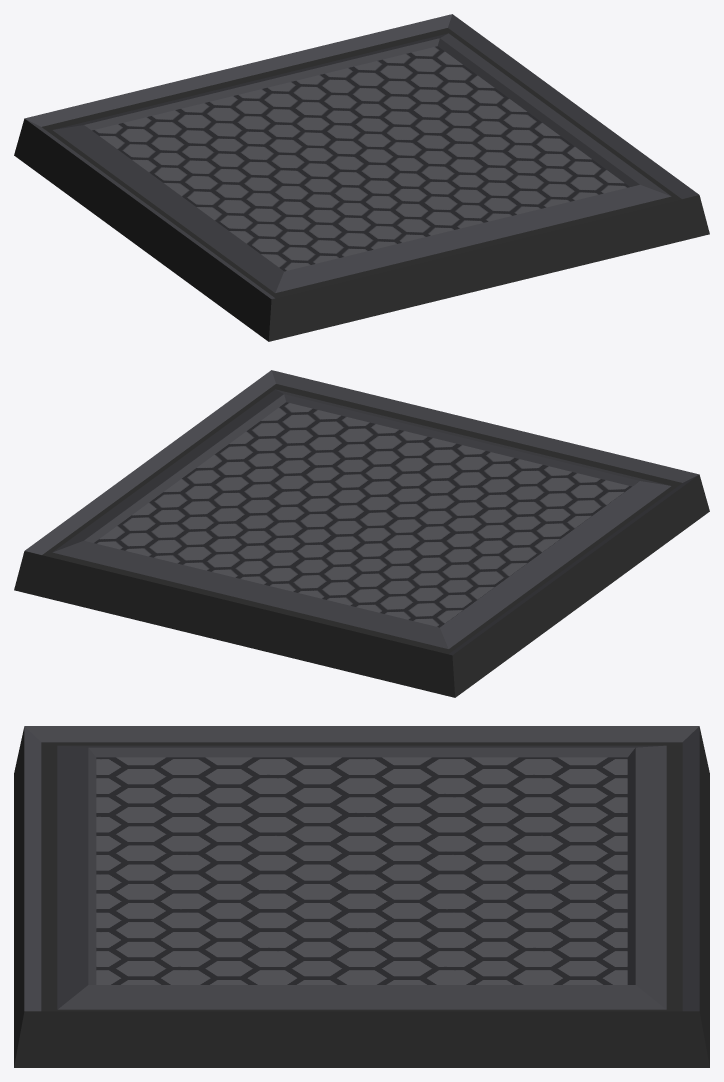
The model's file is SM_Bld_Floor_Small_04.fbx.
The picture shows the model from 3 angles, top to bottom: view 1: azimuth 30°, elevation 25°; view 2: azimuth 150°, elevation 25°; view 3: azimuth 270°, elevation 25°; orthographic projection. The views are drawn at different scales.
Visible parts, largest first — view 1: SM_Bld_Floor_Small_04_LOD0; view 2: SM_Bld_Floor_Small_04_LOD0; view 3: SM_Bld_Floor_Small_04_LOD0.
Part boxes in pixels (x1,y1,x2,y2): SM_Bld_Floor_Small_04_LOD0: [14, 14, 709, 341]; SM_Bld_Floor_Small_04_LOD0: [14, 370, 709, 697]; SM_Bld_Floor_Small_04_LOD0: [14, 726, 709, 1067].
Bounding box in the file's own units: 250 × 250 × 21.66.
Materials: 1 (1 with a texture image).
